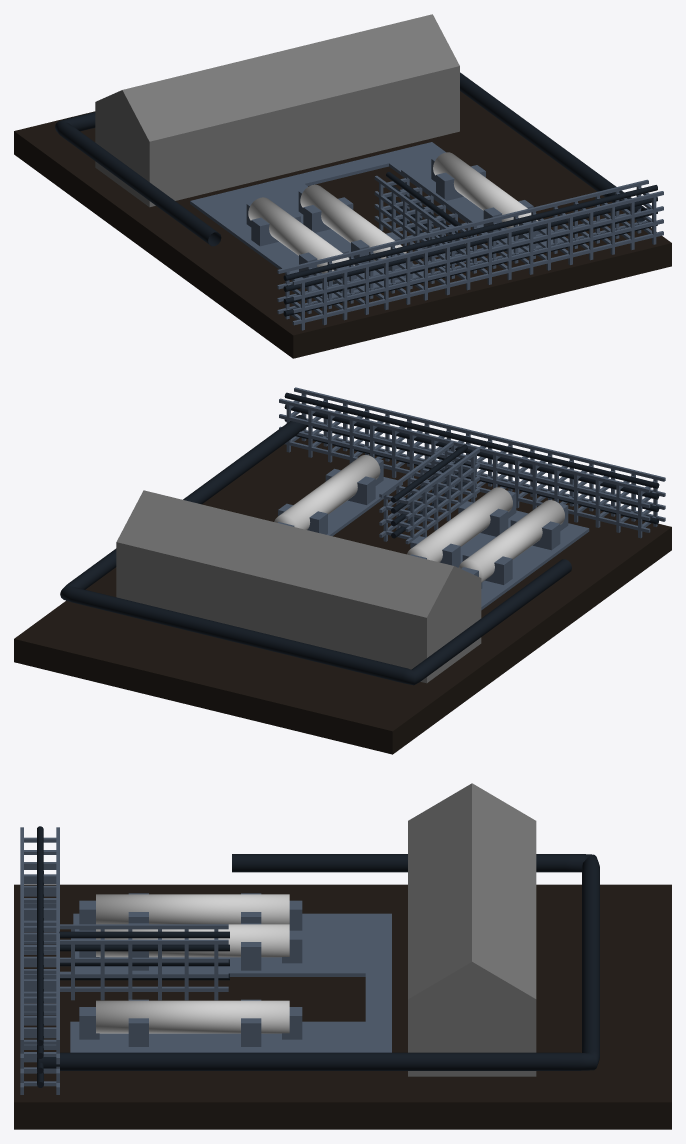
The model's file is Refrigerant Storage.fbx.
The picture shows the model from 3 angles, top to bottom: view 1: azimuth 30°, elevation 25°; view 2: azimuth 150°, elevation 25°; view 3: azimuth 270°, elevation 25°; orthographic projection. The views are drawn at different scales.
Visible parts, largest first — view 1: RefrigerantStorage; view 2: RefrigerantStorage; view 3: RefrigerantStorage.
Boxes of the visible parts, box(x1,y1,x2,y2) form: RefrigerantStorage: box(14, 14, 671, 358); RefrigerantStorage: box(14, 387, 671, 754); RefrigerantStorage: box(14, 783, 671, 1129).
Size of the model in its own units: 77.63 by 23.66 by 99.11.
